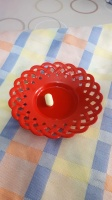Aferin: (44, 93, 54, 107)
